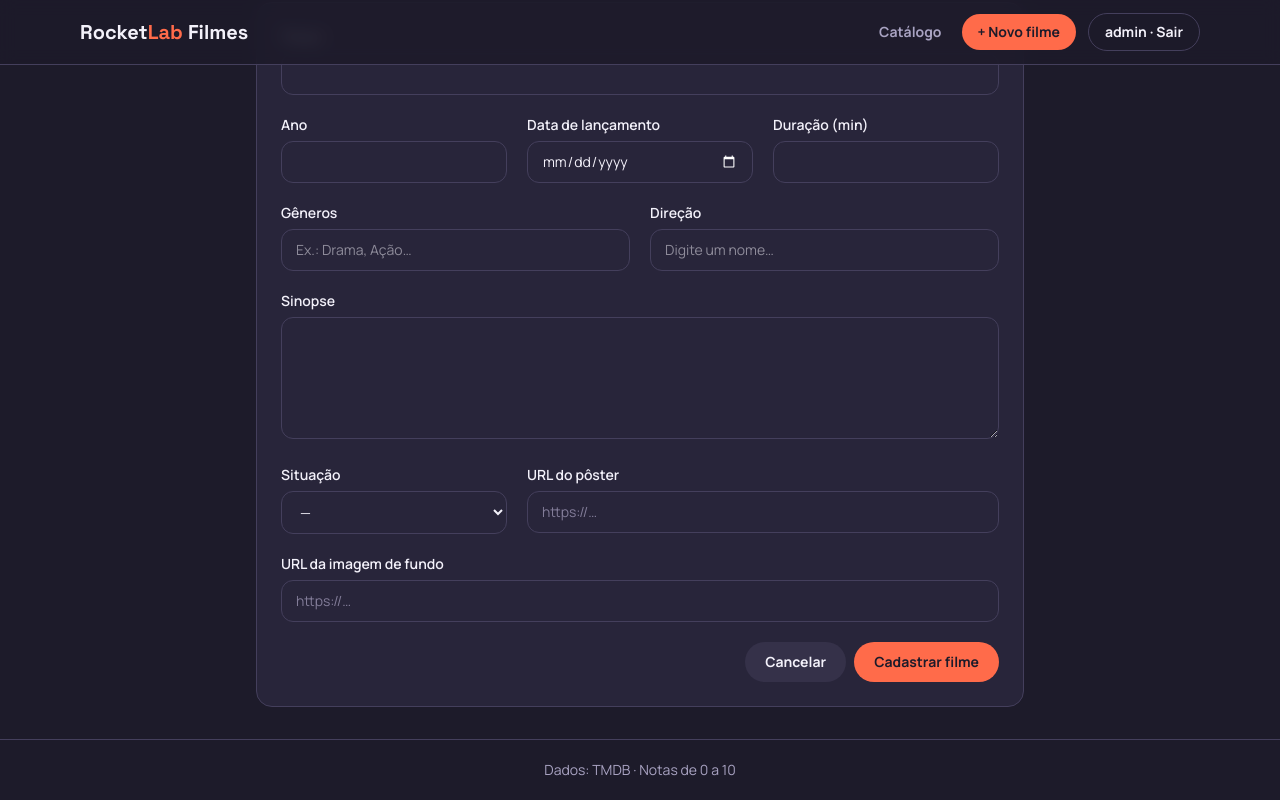
Test case: formulário de filme › exibe erros de validação da API no campo
(page scrolled)
Type "X" into the field labelled "Título *" at point(640, 74), box x1=281 y1=53 x2=999 y2=95
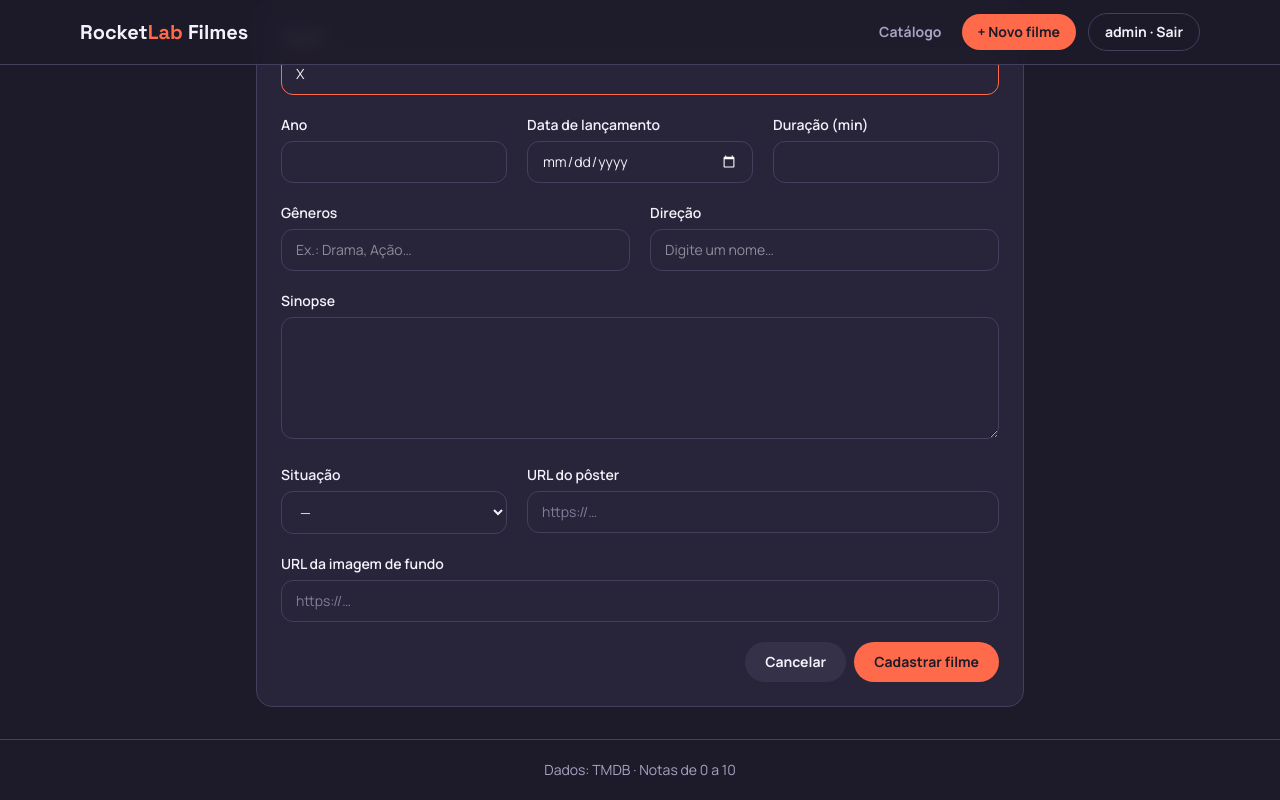
Click the button "Cadastrar filme" at point(927, 662), box x1=854 y1=642 x2=999 y2=682
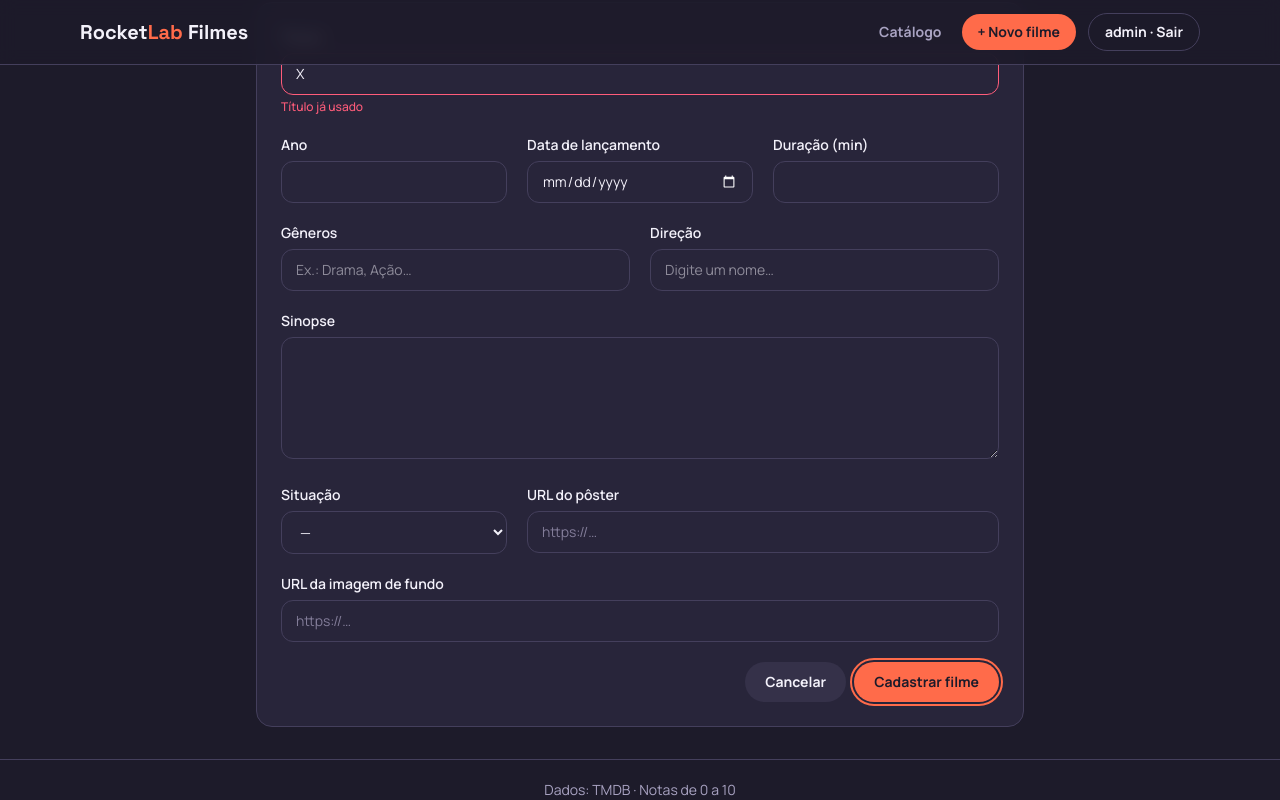
Expected: the text "Título já usado" is shown, x1=281 y1=98 x2=363 y2=115
